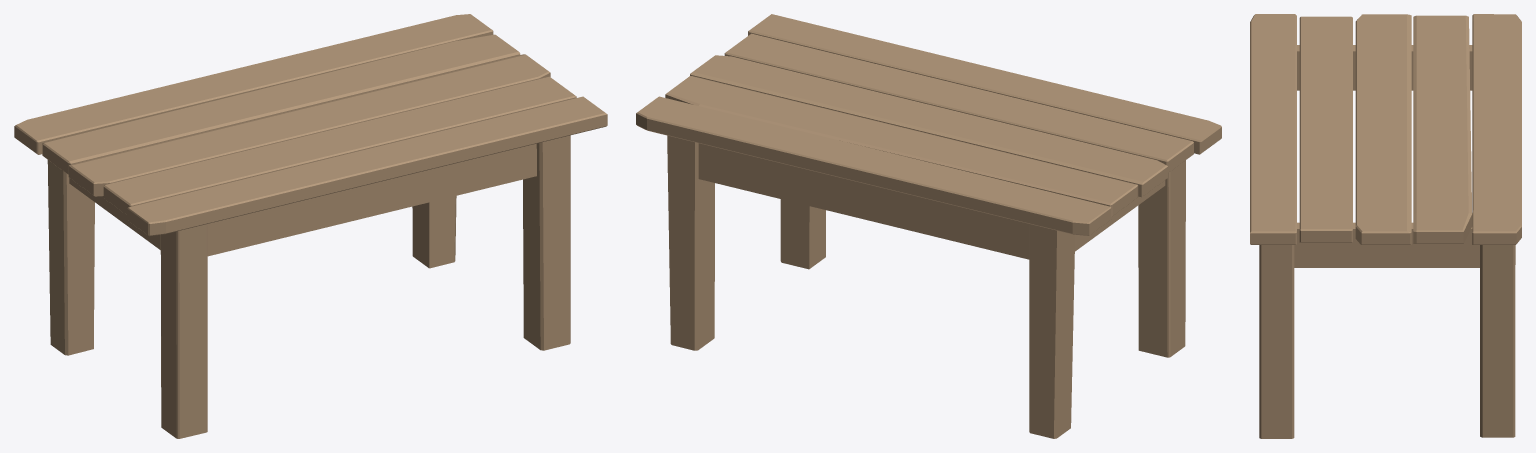
Rendered from carav-table.glb.
The picture shows the model from 3 angles, left to right: view 1: azimuth 30°, elevation 25°; view 2: azimuth 150°, elevation 25°; view 3: azimuth 270°, elevation 25°; orthographic projection. The views are drawn at different scales.
Visible parts, largest first — view 1: Table; view 2: Table; view 3: Table.
Boxes of the visible parts, bbox=[...] form: Table: bbox=[14, 14, 607, 438]; Table: bbox=[636, 14, 1221, 438]; Table: bbox=[1250, 14, 1521, 438].
Bounding box in the file's own units: 1.68 × 0.8002 × 0.8874.
